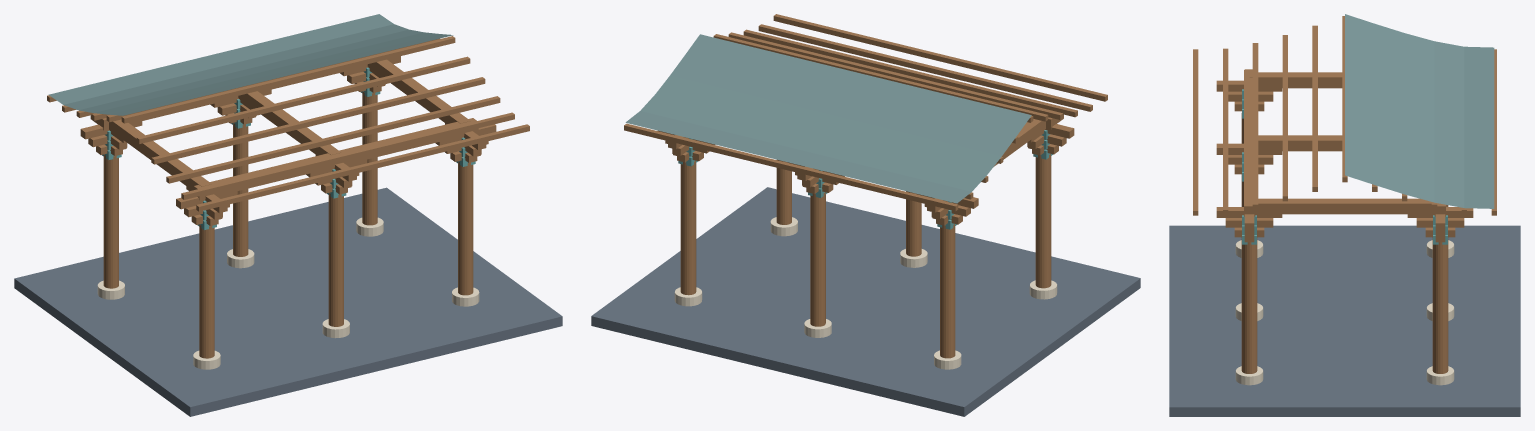
The model's file is sample.glb.
The picture shows the model from 3 angles, left to right: view 1: azimuth 30°, elevation 25°; view 2: azimuth 150°, elevation 25°; view 3: azimuth 270°, elevation 25°; orthographic projection.
Visible parts, largest first — view 1: DISPLAY_plinth, roof_strip.004, roof_strip.003, purlin.003, purlin.002, purlin, purlin.001, purlin.005, purlin.004, longitudinal_beam, roof_strip.002, timber_column (+12 smaller); view 2: DISPLAY_plinth, roof_strip, roof_strip.001, roof_strip.002, roof_strip.003, roof_strip.004, purlin.011, purlin.004, purlin.005, purlin.003, timber_column, timber_column.005 (+7 smaller); view 3: DISPLAY_plinth, roof_strip.002, roof_strip.004, roof_strip.003, roof_strip, roof_strip.001, cross_beam.002, timber_column.004, timber_column.005, cross_beam, cross_beam.001, longitudinal_beam (+16 smaller).
Part boxes in pixels (x1=…): DISPLAY_plinth: x1=14, y1=187, x2=562, y2=416; roof_strip.004: x1=48, y1=14, x2=393, y2=104; roof_strip.003: x1=64, y1=24, x2=408, y2=110; purlin.003: x1=166, y1=96, x2=500, y2=183; purlin.002: x1=151, y1=77, x2=485, y2=164; purlin: x1=121, y1=36, x2=455, y2=123; purlin.001: x1=136, y1=56, x2=470, y2=144; purlin.005: x1=196, y1=124, x2=529, y2=211; purlin.004: x1=181, y1=112, x2=514, y2=199; longitudinal_beam: x1=193, y1=118, x2=478, y2=200; roof_strip.002: x1=79, y1=29, x2=423, y2=112; timber_column: x1=199, y1=224, x2=214, y2=358; DISPLAY_plinth: x1=591, y1=187, x2=1140, y2=416; roof_strip: x1=685, y1=34, x2=1031, y2=135; roof_strip.001: x1=670, y1=55, x2=1016, y2=155; roof_strip.002: x1=655, y1=75, x2=1001, y2=175; roof_strip.003: x1=640, y1=94, x2=986, y2=191; roof_strip.004: x1=625, y1=111, x2=971, y2=203; purlin.011: x1=624, y1=123, x2=958, y2=211; purlin.004: x1=758, y1=24, x2=1092, y2=111; purlin.005: x1=773, y1=14, x2=1107, y2=101; purlin.003: x1=743, y1=29, x2=1077, y2=117; timber_column: x1=1035, y1=154, x2=1051, y2=288; timber_column.005: x1=680, y1=160, x2=696, y2=295; DISPLAY_plinth: x1=1169, y1=225, x2=1520, y2=416; roof_strip.002: x1=1404, y1=33, x2=1434, y2=202; roof_strip.004: x1=1464, y1=46, x2=1494, y2=208; roof_strip.003: x1=1434, y1=41, x2=1464, y2=207; roof_strip: x1=1345, y1=14, x2=1374, y2=184; roof_strip.001: x1=1375, y1=24, x2=1404, y2=194; cross_beam.002: x1=1249, y1=198, x2=1438, y2=214; timber_column.004: x1=1241, y1=239, x2=1257, y2=373; timber_column.005: x1=1432, y1=239, x2=1448, y2=373; cross_beam: x1=1249, y1=72, x2=1342, y2=88; cross_beam.001: x1=1249, y1=135, x2=1342, y2=151; longitudinal_beam: x1=1244, y1=70, x2=1255, y2=216.
Size of the model in its own units: 7.2 by 4.28 by 5.89.
